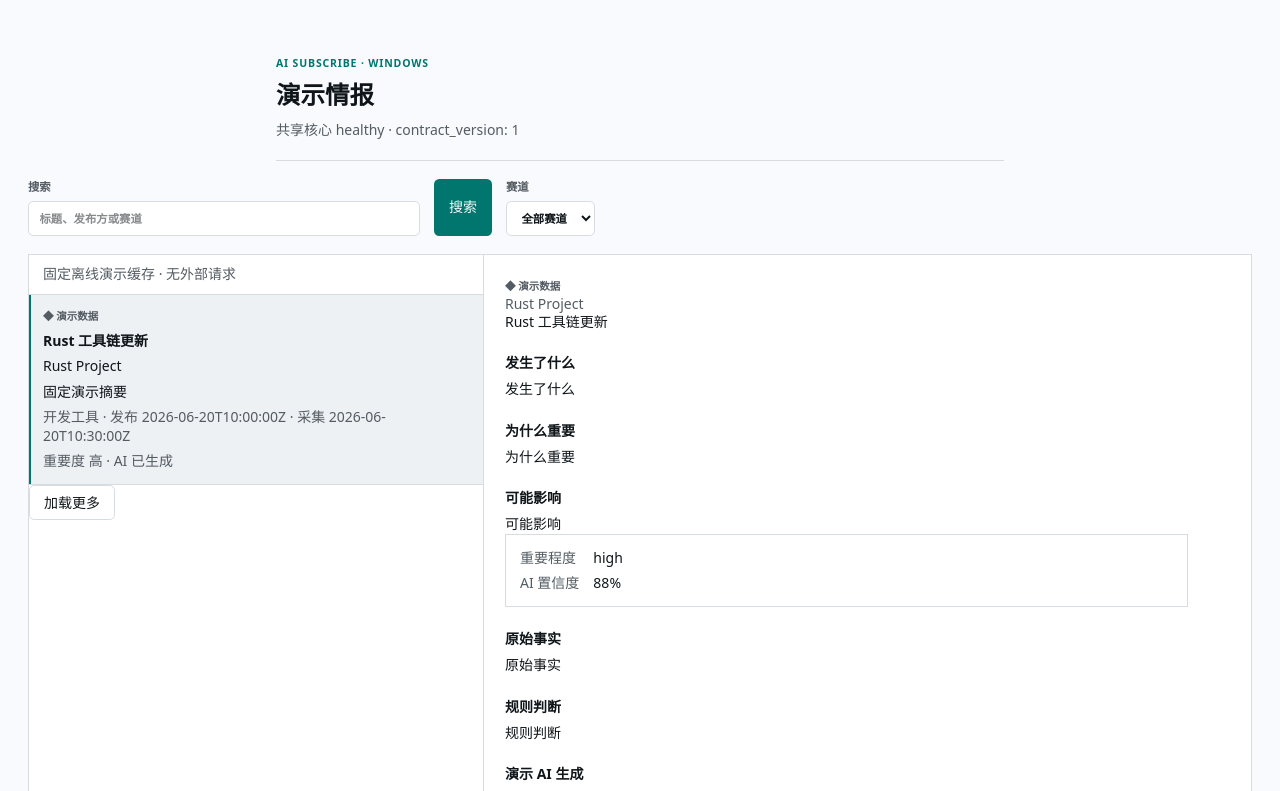
Test case: Windows demo intelligence shell › loads keyset pages without duplicating existing list items
expect the button "Rust 工具链更新" is shown: met, box [29,295,483,485]
Click the button "加载更多": (72, 503) [29,485,115,520]
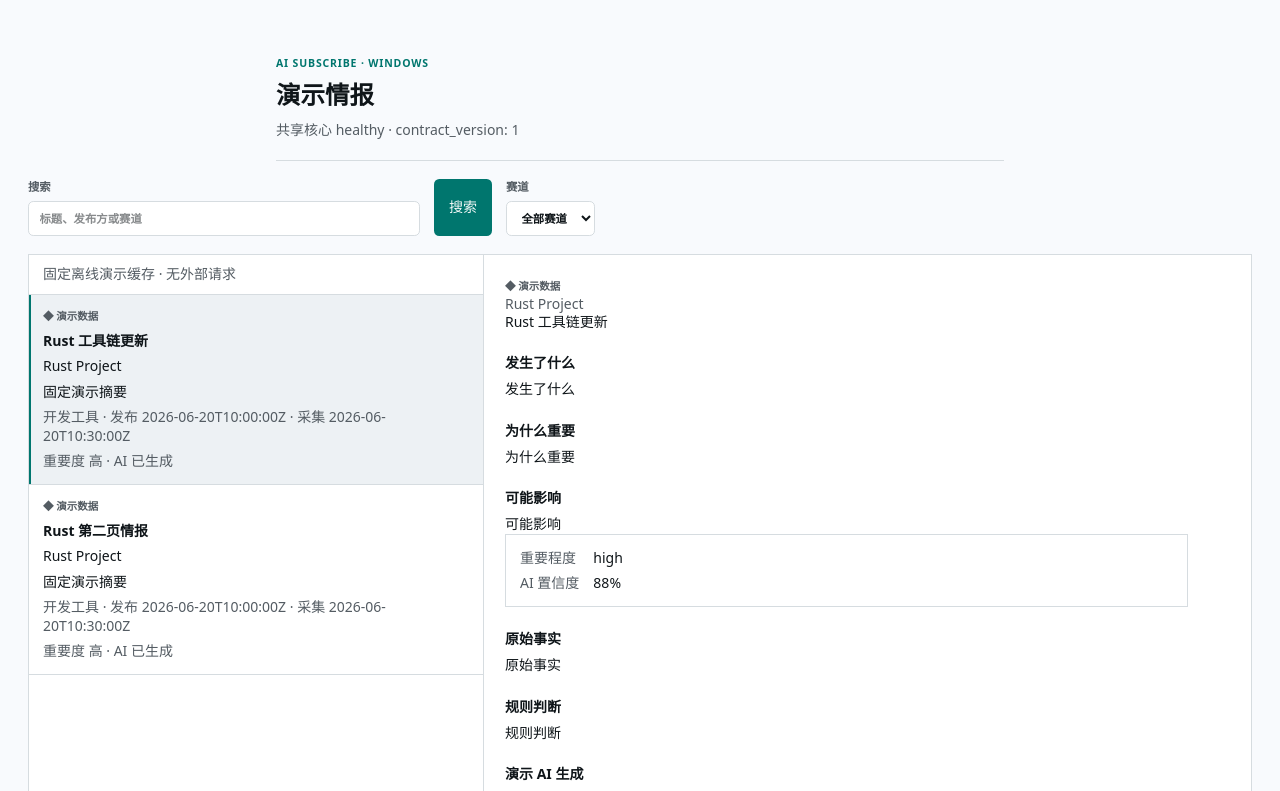
expect the button "Rust 第二页情报" is shown: met, box [29,485,483,675]
expect the number of buttons "Rust 工具链更新" is 1: met, box [29,295,483,485]
